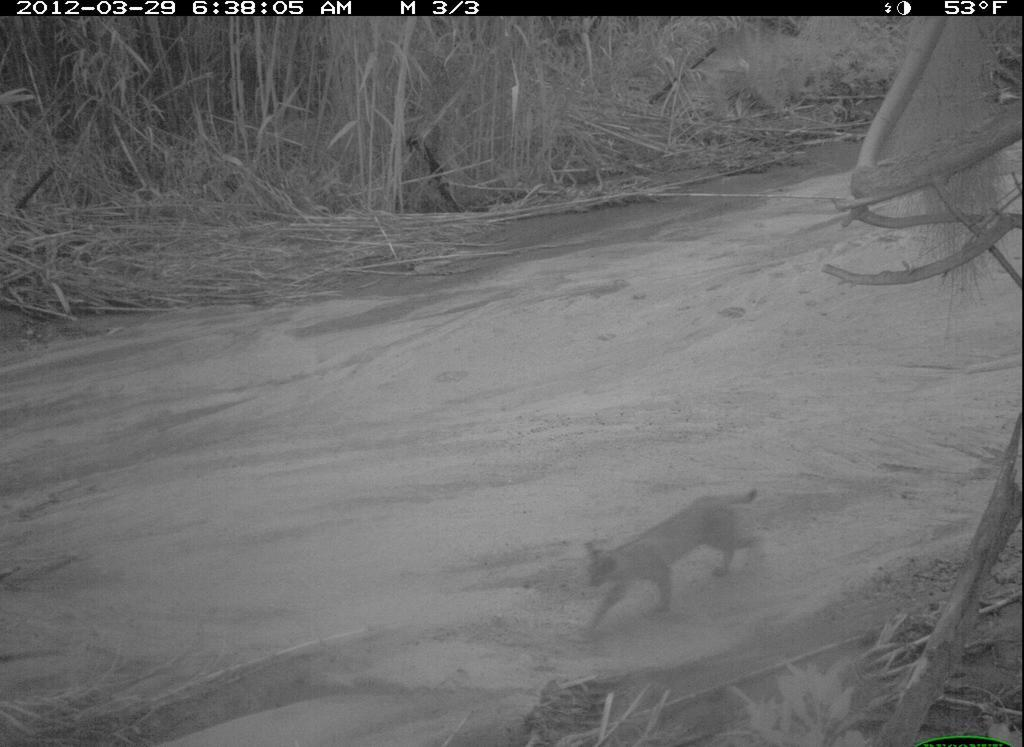bobcat: (569, 487, 770, 635)
